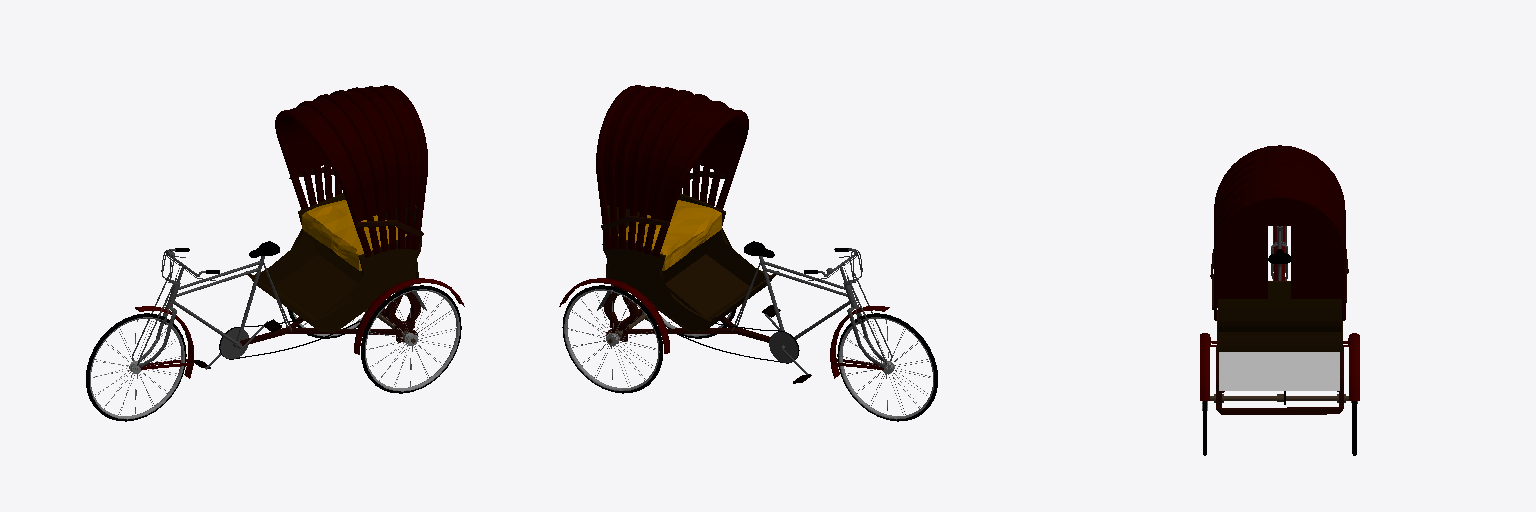
The model's file is trishawobj.obj.
3 views of the same model, side by side, from view 1: azimuth 30°, elevation 25°; view 2: azimuth 150°, elevation 25°; view 3: azimuth 270°, elevation 25° (orthographic).
Visible parts, largest first — view 1: seat_Plane.003, break_Plane.018, wheel_spoke_back_left_Cylinder.022, wheel_spoke_front_Cylinder.012, tire_back_left_Cylinder.021, tire_front_Cylinder.010; view 2: seat_Plane.003, break_Plane.018, wheel_spoke_back_right_Cylinder.024, wheel_spoke_front_Cylinder.012, tire_back_right_Cylinder.023, tire_front_Cylinder.010; view 3: seat_Plane.003, break_Plane.018.
Part boxes in pixels (left/top/right/bottom): seat_Plane.003: left=174, top=85, right=464, bottom=358; break_Plane.018: left=132, top=248, right=219, bottom=378; wheel_spoke_back_left_Cylinder.022: left=365, top=289, right=459, bottom=391; wheel_spoke_front_Cylinder.012: left=90, top=317, right=184, bottom=419; tire_back_left_Cylinder.021: left=361, top=285, right=461, bottom=393; tire_front_Cylinder.010: left=86, top=313, right=186, bottom=421; seat_Plane.003: left=559, top=85, right=849, bottom=362; break_Plane.018: left=804, top=248, right=892, bottom=378; wheel_spoke_back_right_Cylinder.024: left=564, top=289, right=659, bottom=390; wheel_spoke_front_Cylinder.012: left=839, top=317, right=933, bottom=419; tire_back_right_Cylinder.023: left=562, top=285, right=662, bottom=393; tire_front_Cylinder.010: left=837, top=313, right=937, bottom=421; seat_Plane.003: left=1200, top=145, right=1359, bottom=414; break_Plane.018: left=1271, top=226, right=1287, bottom=280.
Bounding box in the file's own units: 4.02 × 3.1 × 1.64.